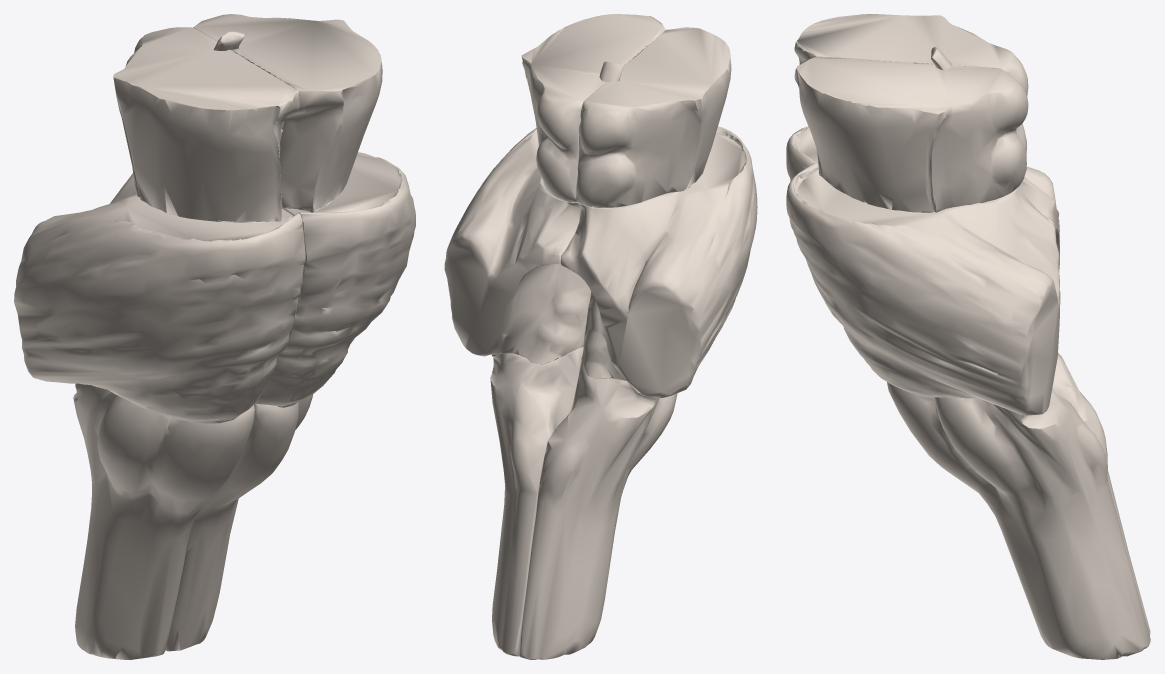
Rendered from brainstem.glb.
The picture shows the model from 3 angles, left to right: view 1: azimuth 30°, elevation 25°; view 2: azimuth 150°, elevation 25°; view 3: azimuth 270°, elevation 25°; orthographic projection. The views are drawn at different scales.
Parts seen in each view (by area): view 1: FJ1822_Pons, FJ1831_Medulla_oblongata, FJ1817_Midbrain, FJ1775_Pons, FJ1770_Midbrain, FJ1769_Medulla_oblongata; view 2: FJ1822_Pons, FJ1831_Medulla_oblongata, FJ1775_Pons, FJ1817_Midbrain, FJ1769_Medulla_oblongata, FJ1770_Midbrain; view 3: FJ1775_Pons, FJ1769_Medulla_oblongata, FJ1770_Midbrain, FJ1817_Midbrain, FJ1822_Pons, FJ1831_Medulla_oblongata.
Boxes of the visible parts, x1,y1,x2,y2 form: FJ1822_Pons: (14, 173, 305, 423); FJ1831_Medulla_oblongata: (73, 383, 254, 659); FJ1817_Midbrain: (113, 27, 299, 222); FJ1775_Pons: (255, 152, 415, 407); FJ1770_Midbrain: (193, 14, 382, 212); FJ1769_Medulla_oblongata: (165, 394, 312, 651); FJ1822_Pons: (560, 126, 757, 398); FJ1831_Medulla_oblongata: (519, 347, 677, 659); FJ1775_Pons: (444, 128, 591, 364); FJ1817_Midbrain: (576, 27, 731, 207); FJ1769_Medulla_oblongata: (490, 347, 583, 656); FJ1770_Midbrain: (521, 14, 665, 202); FJ1775_Pons: (786, 163, 1060, 415); FJ1769_Medulla_oblongata: (887, 382, 1150, 659); FJ1770_Midbrain: (794, 56, 1028, 212); FJ1817_Midbrain: (794, 14, 1028, 153); FJ1822_Pons: (786, 126, 1059, 270); FJ1831_Medulla_oblongata: (1052, 353, 1150, 635).
Bounding box in the file's own units: 0.0422 × 0.0818 × 0.0457.
